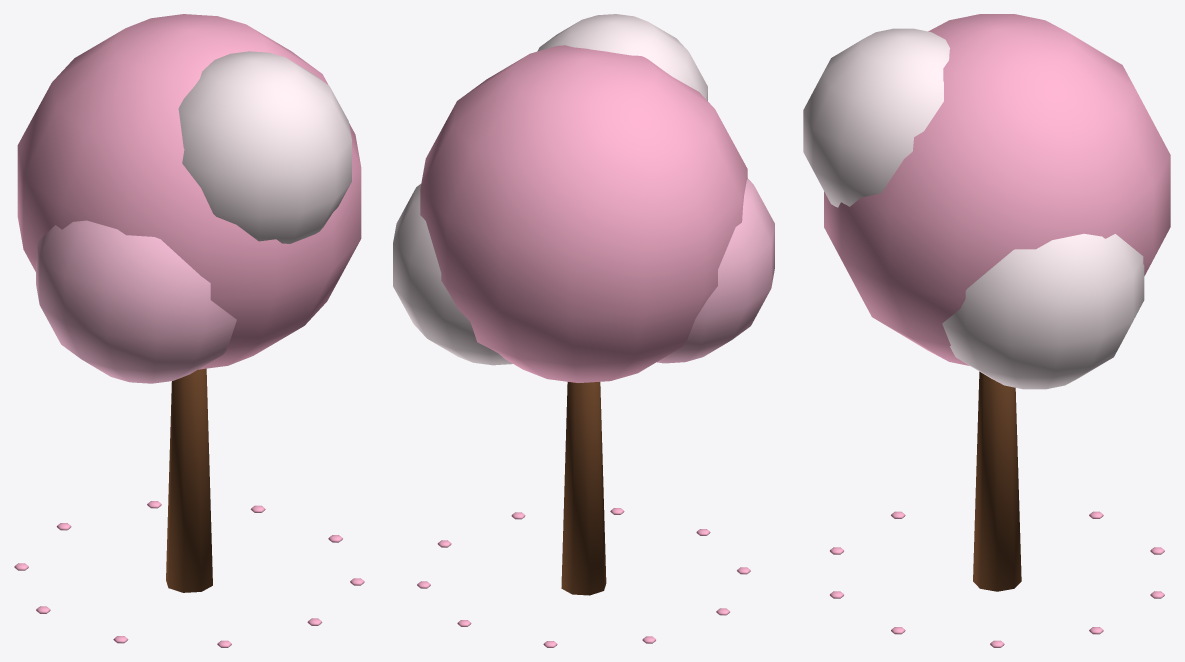
Rendered from hrad-kvetouci-strom.glb.
3 renders of one model, left to right at view 1: azimuth 30°, elevation 25°; view 2: azimuth 150°, elevation 25°; view 3: azimuth 270°, elevation 25°, orthographic. The views are drawn at different scales.
Parts seen in each view (by area): view 1: hrad-kvetouci-strom; view 2: hrad-kvetouci-strom; view 3: hrad-kvetouci-strom.
Boxes of the visible parts, box(x1,y1,x2,y2) form: hrad-kvetouci-strom: box(14, 14, 364, 647); hrad-kvetouci-strom: box(393, 14, 774, 647); hrad-kvetouci-strom: box(803, 14, 1170, 647).
Size of the model in its own units: 2.01 by 3.25 by 1.96.
